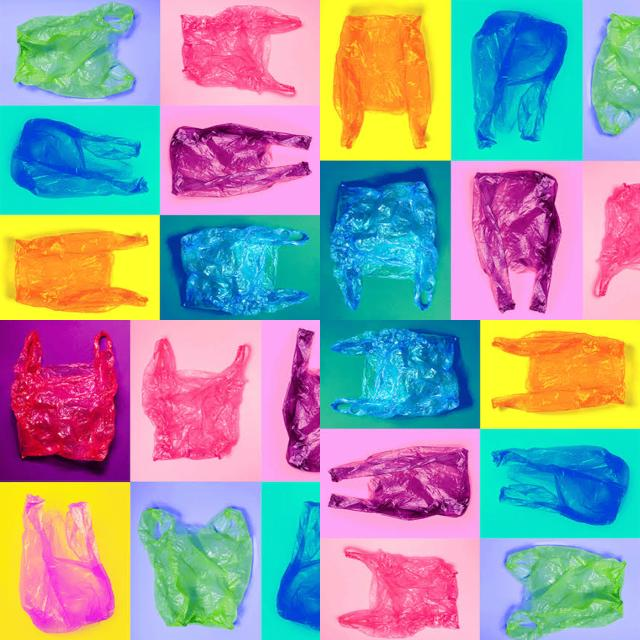Single-layer Plastic: (330, 181, 438, 310), (11, 331, 118, 461), (139, 508, 252, 628), (471, 11, 568, 149), (142, 338, 250, 461), (20, 494, 114, 633), (334, 15, 431, 149), (472, 170, 561, 312), (14, 2, 134, 98), (180, 226, 309, 315), (331, 329, 459, 418), (506, 545, 626, 639), (491, 445, 629, 525), (339, 546, 459, 638), (15, 231, 149, 312), (181, 5, 301, 95), (492, 331, 625, 412), (11, 119, 147, 198), (329, 446, 470, 520), (170, 124, 311, 197), (591, 14, 640, 134), (282, 329, 320, 471), (594, 184, 640, 297)
